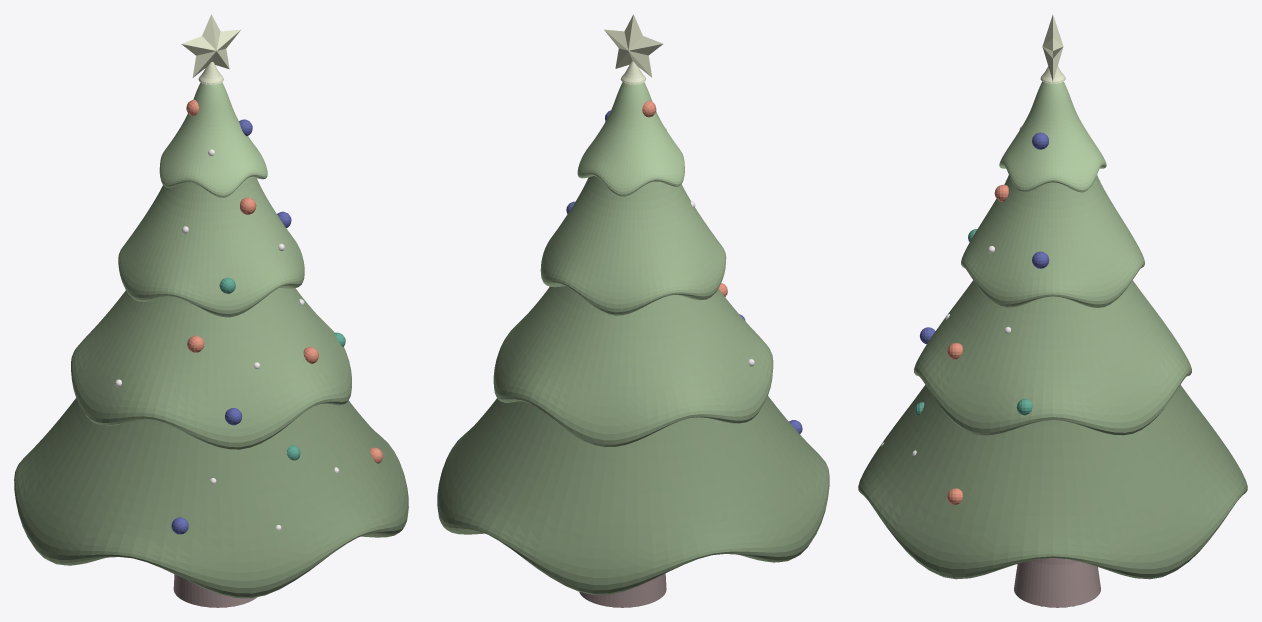
File: tree_decorated_1.glb
3 views of the same model, side by side, from view 1: azimuth 30°, elevation 25°; view 2: azimuth 150°, elevation 25°; view 3: azimuth 270°, elevation 25° (orthographic).
Visible parts, largest first — view 1: Null.1, Extrude, Cylinder.1; view 2: Null.1, Extrude, Cylinder.1; view 3: Null.1, Cylinder.1, Extrude.
Boxes of the visible parts, x1,y1,x2,y2 form: Null.1: [14, 82, 408, 598]; Extrude: [181, 14, 240, 77]; Cylinder.1: [173, 574, 257, 607]; Null.1: [437, 82, 829, 595]; Extrude: [604, 14, 662, 77]; Cylinder.1: [579, 573, 666, 607]; Null.1: [858, 81, 1247, 579]; Cylinder.1: [1014, 558, 1100, 607]; Extrude: [1042, 15, 1063, 80].
Bounding box in the file's own units: 5.41 × 8.79 × 5.42.
